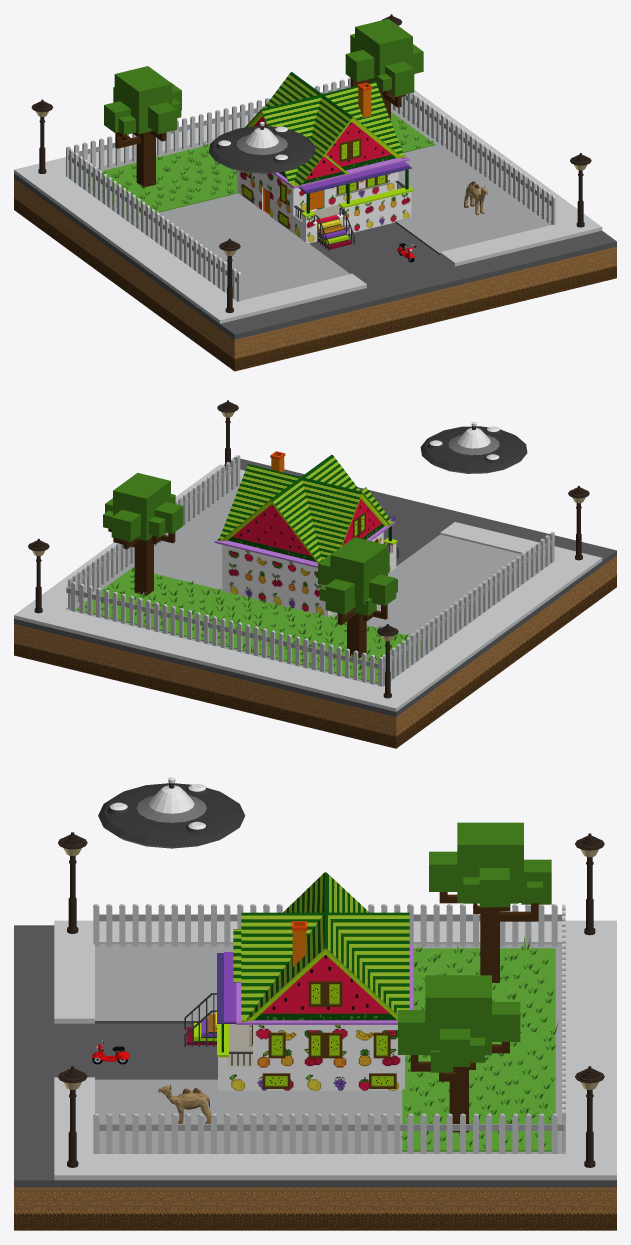
The picture shows the model from 3 angles, top to bottom: view 1: azimuth 30°, elevation 25°; view 2: azimuth 150°, elevation 25°; view 3: azimuth 270°, elevation 25°; orthographic projection. The views are drawn at different scales.
Parts seen in each view (by area): view 1: Cube.004, Cube.1063, OBJRANDOM_UFO, ANIMAL_CAMELLO; view 2: Cube.004, Cube.1063, OBJRANDOM_UFO; view 3: Cube.004, Cube.1063, OBJRANDOM_UFO, ANIMAL_CAMELLO.
Part boxes in pixels (x1,y1,x2,y2): Cube.004: (14, 14, 616, 371); Cube.1063: (237, 72, 414, 250); OBJRANDOM_UFO: (208, 121, 315, 173); ANIMAL_CAMELLO: (464, 181, 488, 215); Cube.004: (14, 400, 616, 748); Cube.1063: (214, 451, 398, 616); OBJRANDOM_UFO: (420, 422, 527, 473); Cube.004: (14, 822, 616, 1230); Cube.1063: (184, 872, 413, 1090); OBJRANDOM_UFO: (98, 777, 245, 848); ANIMAL_CAMELLO: (158, 1084, 210, 1123).
Bounding box in the file's own units: 4000 × 1920 × 4000.
Materials: 35 (5 with a texture image).
